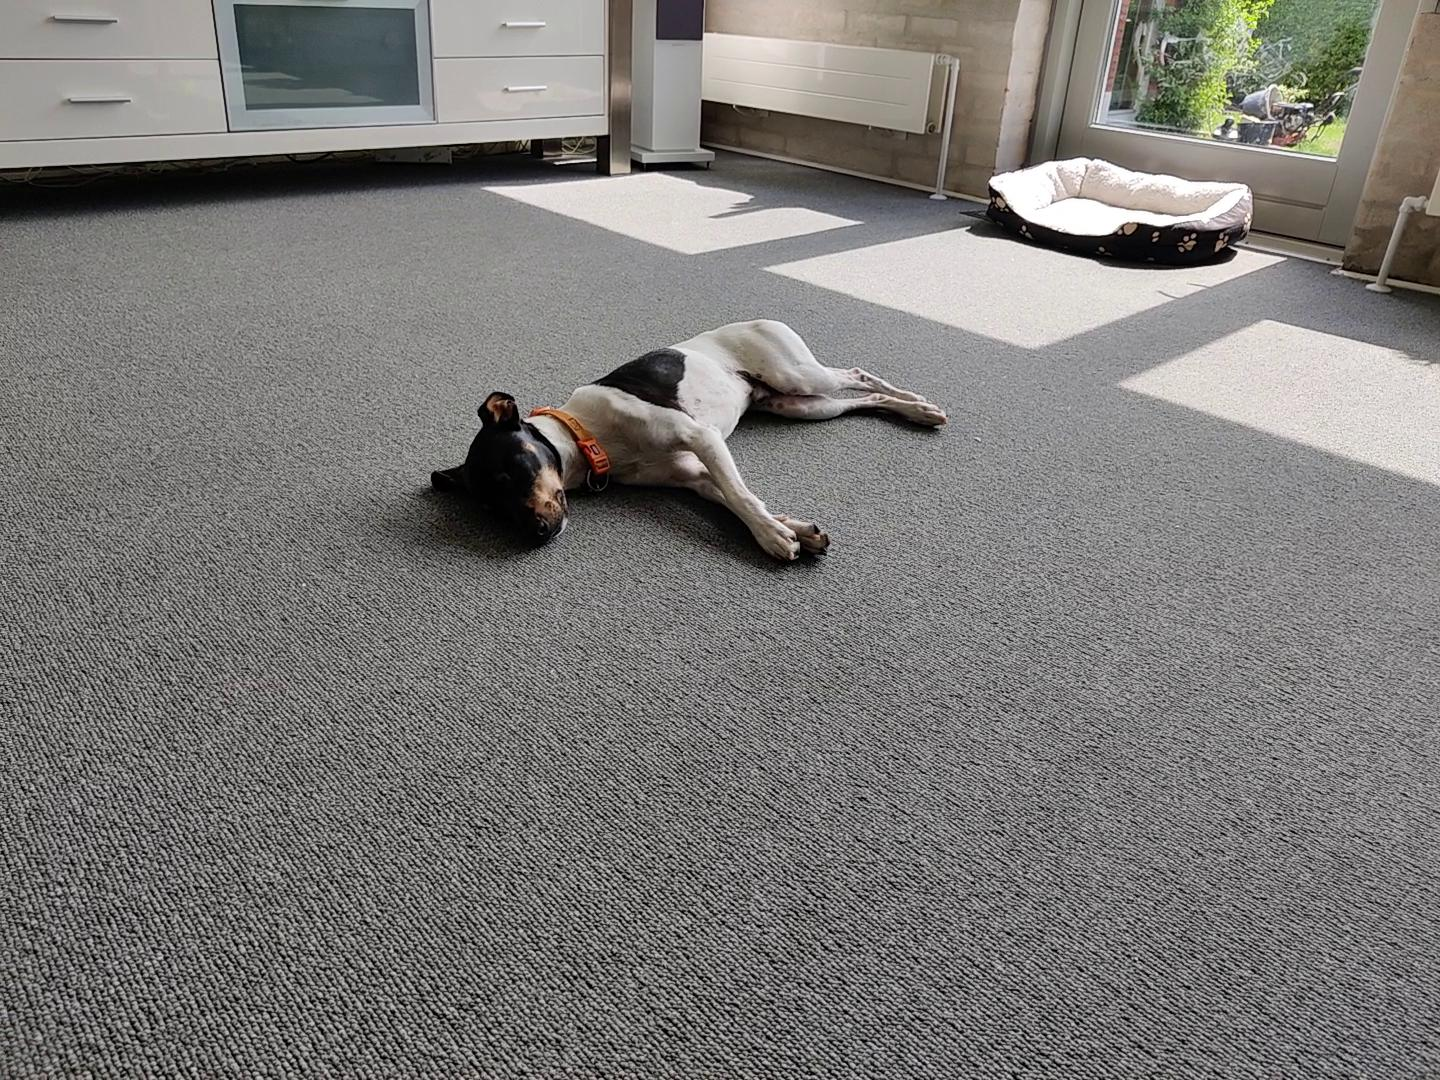Dog: (405, 298, 964, 585)
